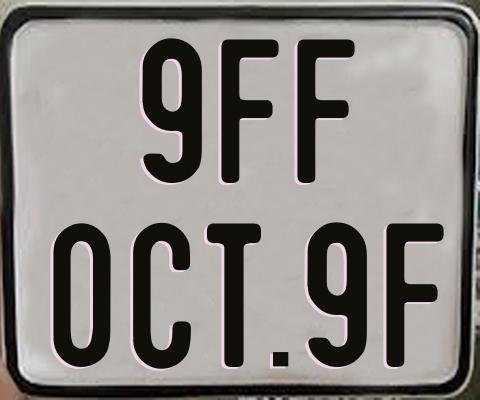0: (53, 222, 114, 371)
9: (304, 219, 368, 367), (140, 35, 202, 181)
C: (133, 222, 191, 371)
F: (294, 38, 358, 188), (384, 220, 447, 366), (219, 39, 278, 187)
T: (205, 223, 261, 370)
